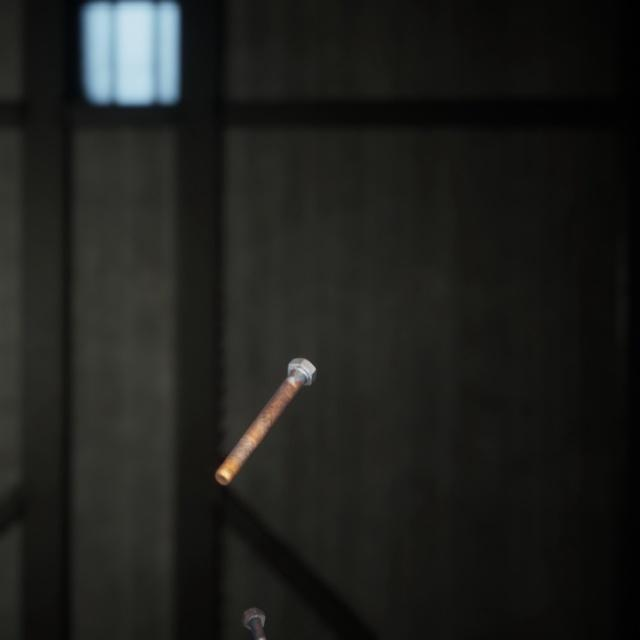bolt: (210, 333, 321, 468), (237, 578, 279, 640)
